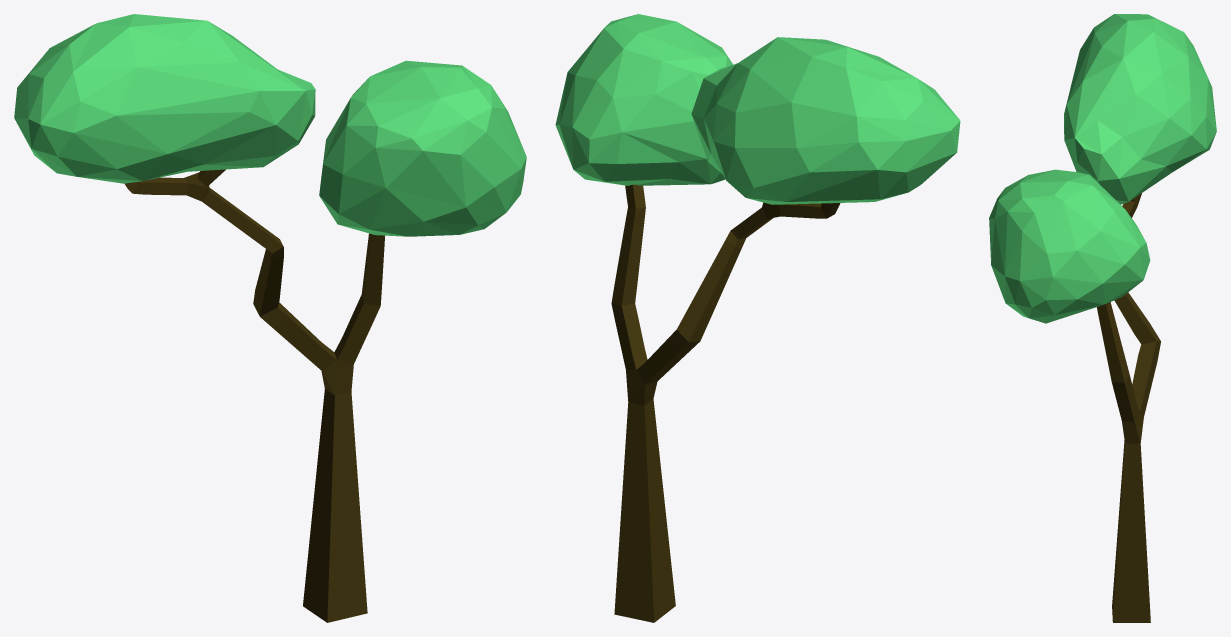
Rendered from lowtree1 (2).fbx.
3 views of the same model, side by side, from view 1: azimuth 30°, elevation 25°; view 2: azimuth 150°, elevation 25°; view 3: azimuth 270°, elevation 25° (orthographic). The views are drawn at different scales.
Visible parts, largest first — view 1: Icosphere; view 2: Icosphere; view 3: Icosphere.
Part boxes in pixels (x1=…): Icosphere: x1=14, y1=14, x2=526, y2=622; Icosphere: x1=555, y1=14, x2=960, y2=622; Icosphere: x1=989, y1=14, x2=1216, y2=622.
Bounding box in the file's own units: 109 × 148 × 59.67.
